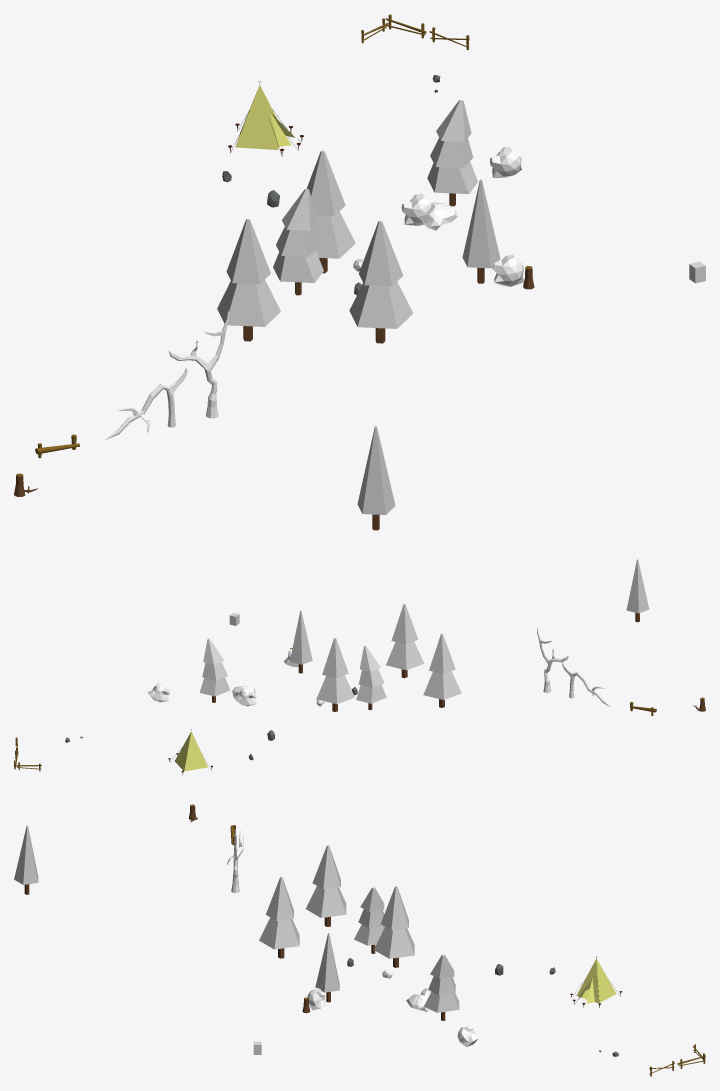
Rendered from Tree2.glb.
3 views of the same model, one above another, from view 1: azimuth 30°, elevation 25°; view 2: azimuth 150°, elevation 25°; view 3: azimuth 270°, elevation 25° (orthographic). The views are drawn at different scales.
Parts seen in each view (by area): view 1: Ground.6232, Ground.6350, Ground.6217, Ground.5037, Ground.5153, Tent.002, Ground.6365, Ground.6410, Tree.004, Tree.003, Ground.823; view 2: Ground.6232, Ground.5153, Ground.6350, Ground.6217, Ground.5037, Tent.002, Ground.6365, Ground.6410, Tree.004, Tree.003; view 3: Ground.6350, Ground.6232, Ground.5153, Ground.5037, Ground.6217, Tent.002, Ground.6410, Ground.6365.
Boxes of the visible parts, x1,y1,x2,y2 form: Ground.6232: (349,220,413,343); Ground.6350: (217,218,280,341); Ground.6217: (273,188,323,295); Ground.5037: (427,100,477,206); Ground.5153: (307,150,355,273); Tent.002: (228,81,303,156); Ground.6365: (462,179,500,283); Ground.6410: (357,426,395,530); Tree.004: (168,310,229,418); Tree.003: (104,368,187,440); Ground.823: (492,254,523,286); Ground.6232: (386,604,424,678); Ground.5153: (316,638,354,711); Ground.6350: (423,633,461,707); Ground.6217: (356,646,386,710); Ground.5037: (199,638,230,702); Tent.002: (168,729,212,775); Ground.6365: (290,610,312,673); Ground.6410: (626,559,649,622); Tree.004: (537,628,568,692); Tree.003: (562,662,610,706); Ground.6350: (306,845,346,926); Ground.6232: (259,876,299,958); Ground.5153: (374,886,414,967); Ground.5037: (424,954,459,1020); Ground.6217: (354,887,384,953); Tent.002: (570,956,621,1007); Ground.6410: (14,825,38,894); Ground.6365: (315,933,339,1002).
Size of the model in its own units: 33.58 by 5 by 37.86.
